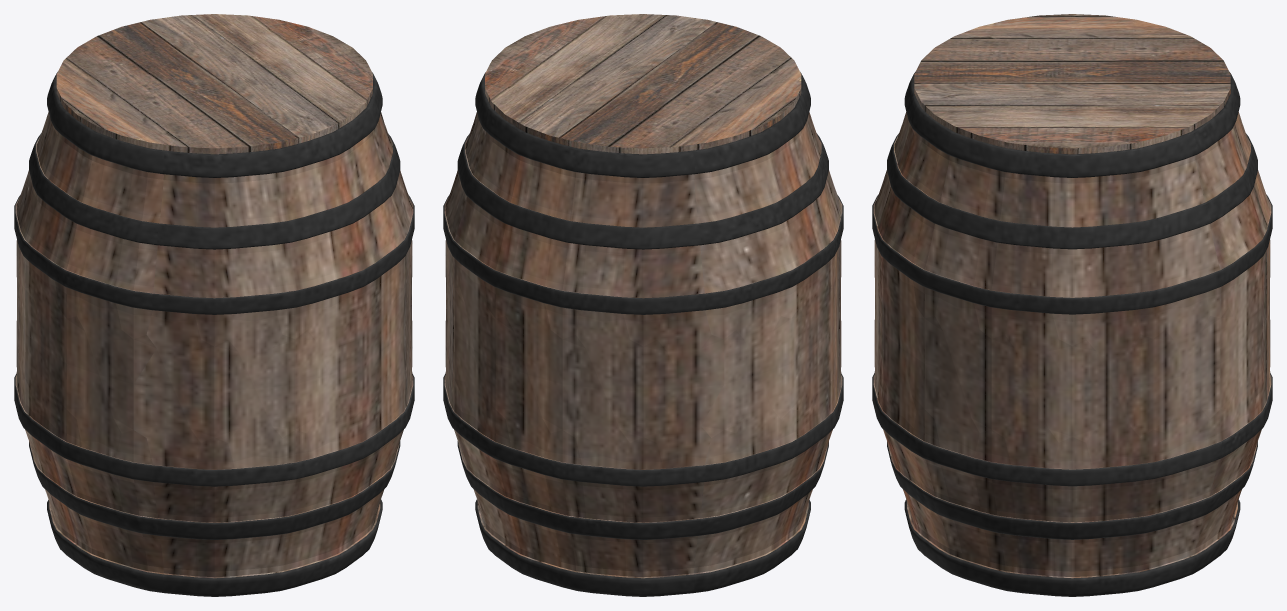
Rendered from wooden-barrel.fbx.
3 renders of one model, left to right at view 1: azimuth 30°, elevation 25°; view 2: azimuth 150°, elevation 25°; view 3: azimuth 270°, elevation 25°, orthographic.
Visible parts, largest first — view 1: Subdivision_Surface, Subdivision_Surface_3, Subdivision_Surface_2; view 2: Subdivision_Surface, Subdivision_Surface_3, Subdivision_Surface_2; view 3: Subdivision_Surface, Subdivision_Surface_3, Subdivision_Surface_2.
Boxes of the visible parts, x1,y1,x2,y2 form: Subdivision_Surface: [15, 112, 413, 578]; Subdivision_Surface_3: [14, 72, 414, 596]; Subdivision_Surface_2: [56, 14, 372, 154]; Subdivision_Surface: [444, 112, 842, 578]; Subdivision_Surface_3: [443, 72, 843, 596]; Subdivision_Surface_2: [485, 14, 801, 154]; Subdivision_Surface: [873, 112, 1271, 578]; Subdivision_Surface_3: [872, 72, 1272, 596]; Subdivision_Surface_2: [914, 14, 1230, 154].
Bounding box in the file's own units: 127 × 156 × 127.
3 materials, 3 textured.
